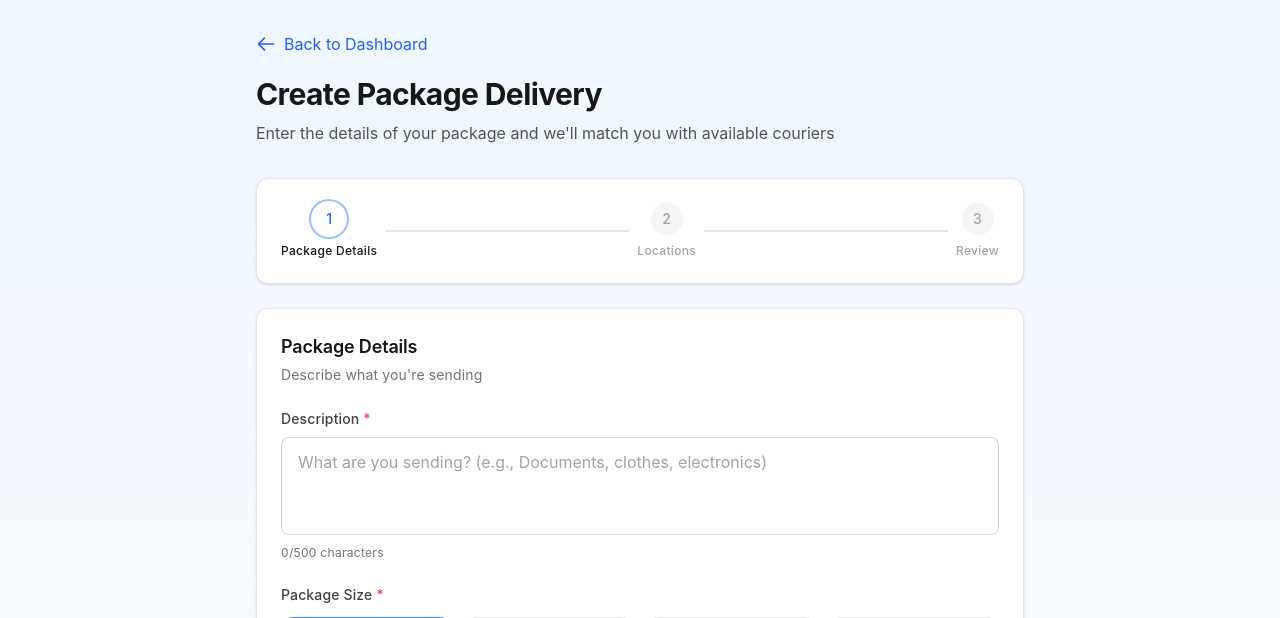
Test: CreatePackagePage › Step 1: Package Details › updates character count as user types
Replace the text in the text box with placeholder "What are you sending" with "Test package" at (640, 486), box [281,437,999,535]
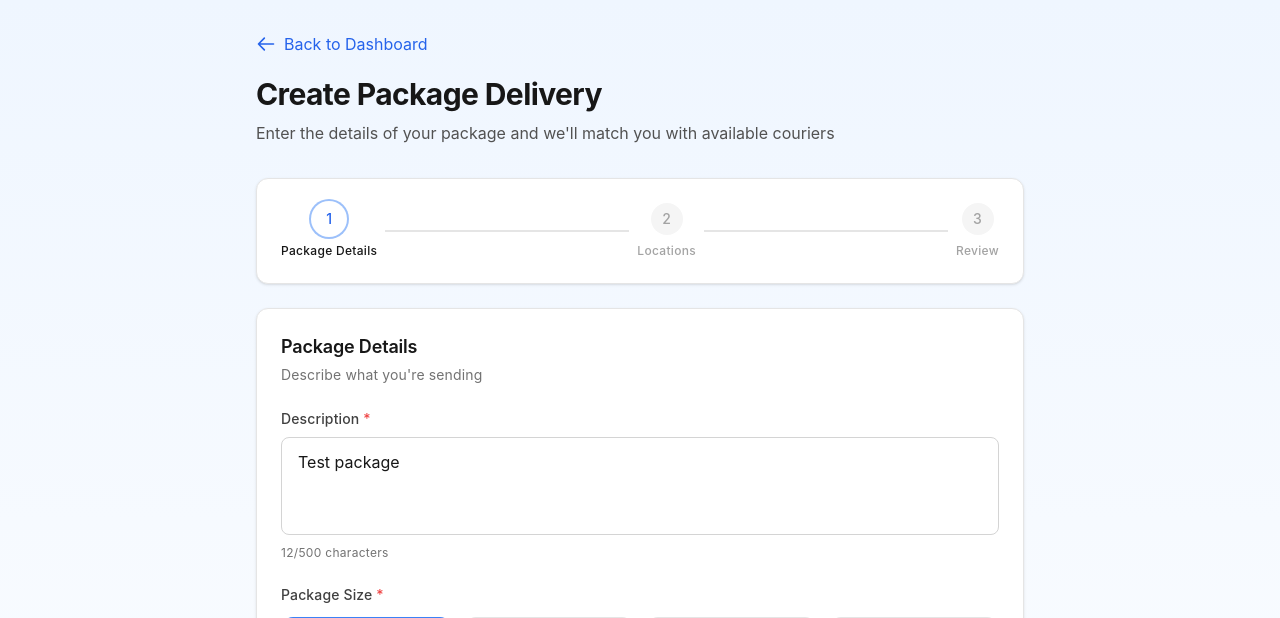
Check: the text "12/500 characters" is shown, box [281,545,389,560]
